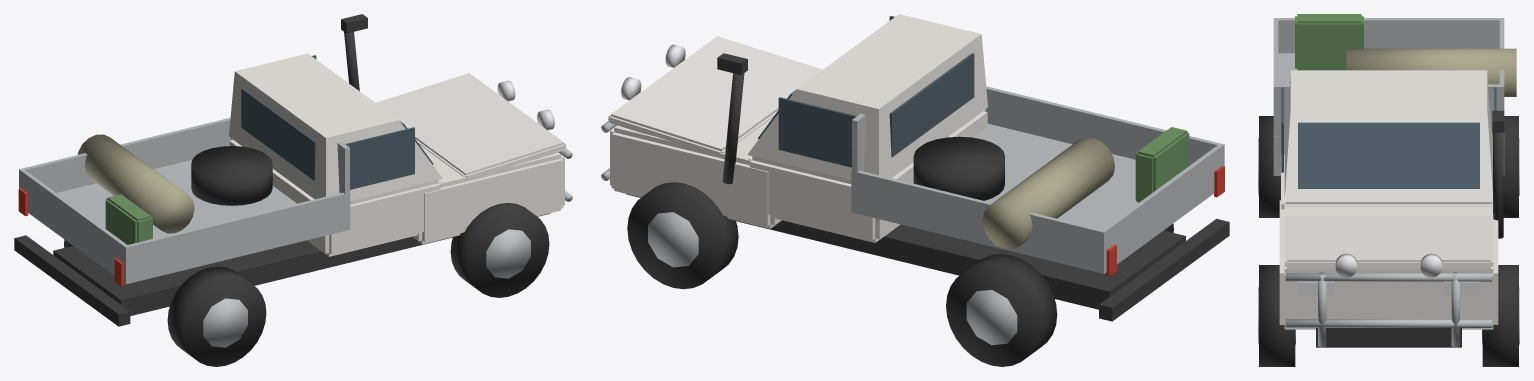
File: ute.glb
The picture shows the model from 3 angles, left to right: view 1: azimuth 30°, elevation 25°; view 2: azimuth 150°, elevation 25°; view 3: azimuth 270°, elevation 25°; orthographic projection. The views are drawn at different scales.
Visible parts, largest first — view 1: ute_body, ute_wheels; view 2: ute_body, ute_wheels; view 3: ute_body, ute_wheels.
Boxes of the visible parts, <box> form: ute_body: <box>14,14,572,326</box>; ute_wheels: <box>64,203,549,366</box>; ute_body: <box>601,14,1229,321</box>; ute_wheels: <box>627,182,1173,366</box>; ute_body: <box>1273,14,1516,347</box>; ute_wheels: <box>1258,116,1519,366</box>.
Size of the model in its own units: 4.75 by 2.03 by 2.15.
